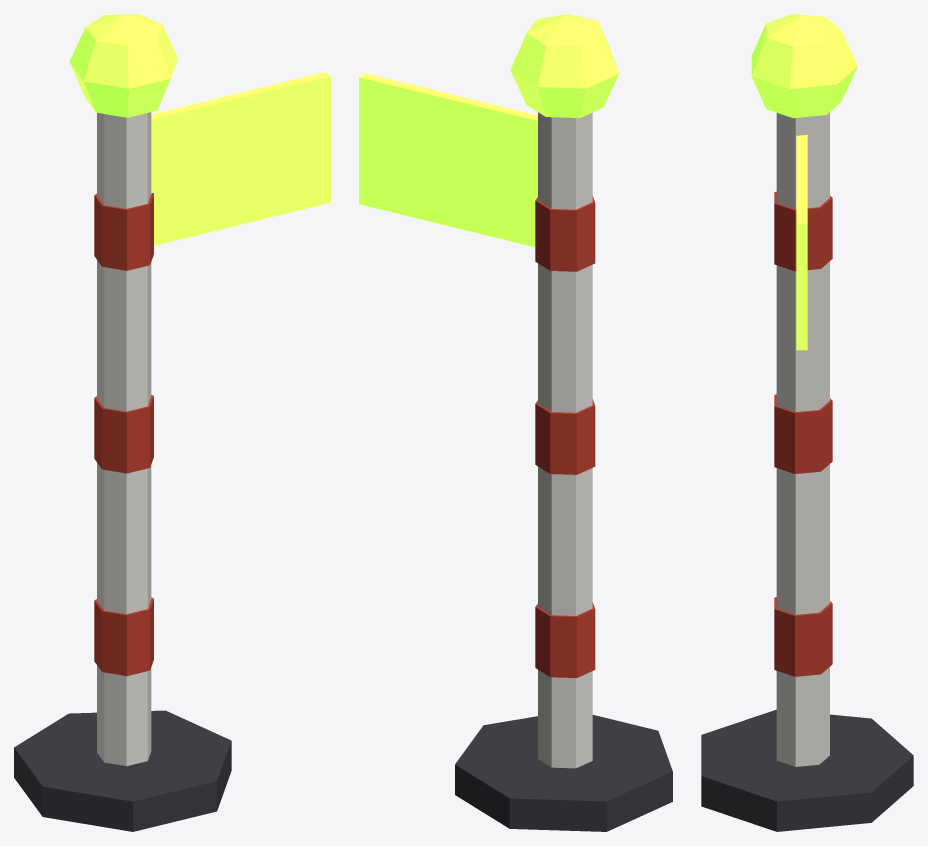
Rendered from checkpoint-lod1.glb.
The picture shows the model from 3 angles, left to right: view 1: azimuth 30°, elevation 25°; view 2: azimuth 150°, elevation 25°; view 3: azimuth 270°, elevation 25°; orthographic projection.
Visible parts, largest first — view 1: checkpoint; view 2: checkpoint; view 3: checkpoint.
Part boxes in pixels (x1=…): checkpoint: x1=14, y1=14, x2=330, y2=831; checkpoint: x1=359, y1=14, x2=672, y2=831; checkpoint: x1=701, y1=14, x2=913, y2=831.
Size of the model in its own units: 0.615 by 1.52 by 0.3802.
